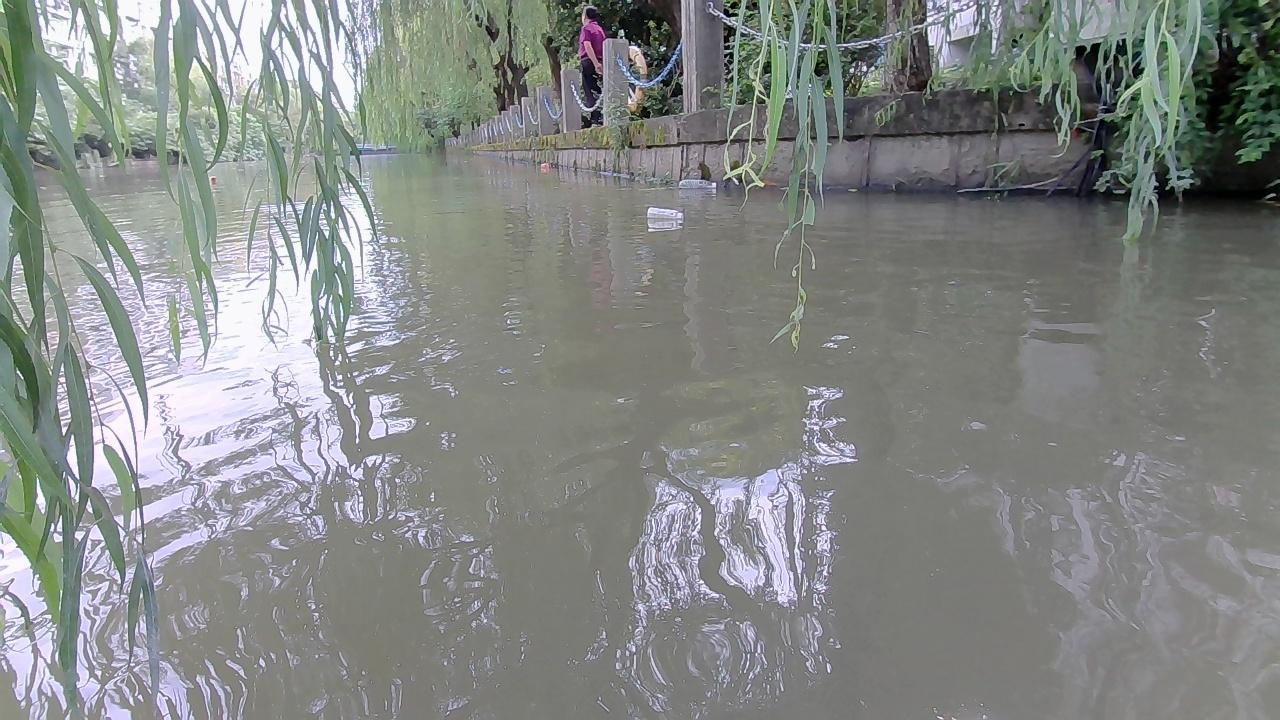bottle: (644, 204, 684, 225), (672, 177, 720, 193), (205, 175, 221, 187), (538, 162, 553, 174)
